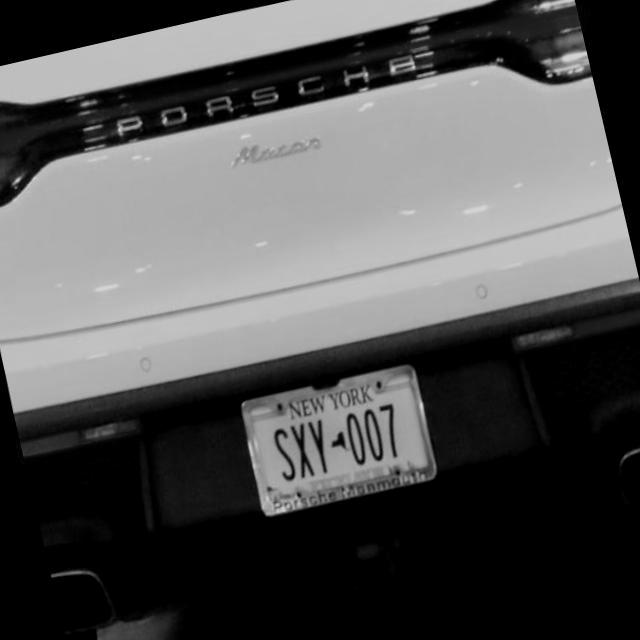LicensePlate: (237, 360, 439, 518)
